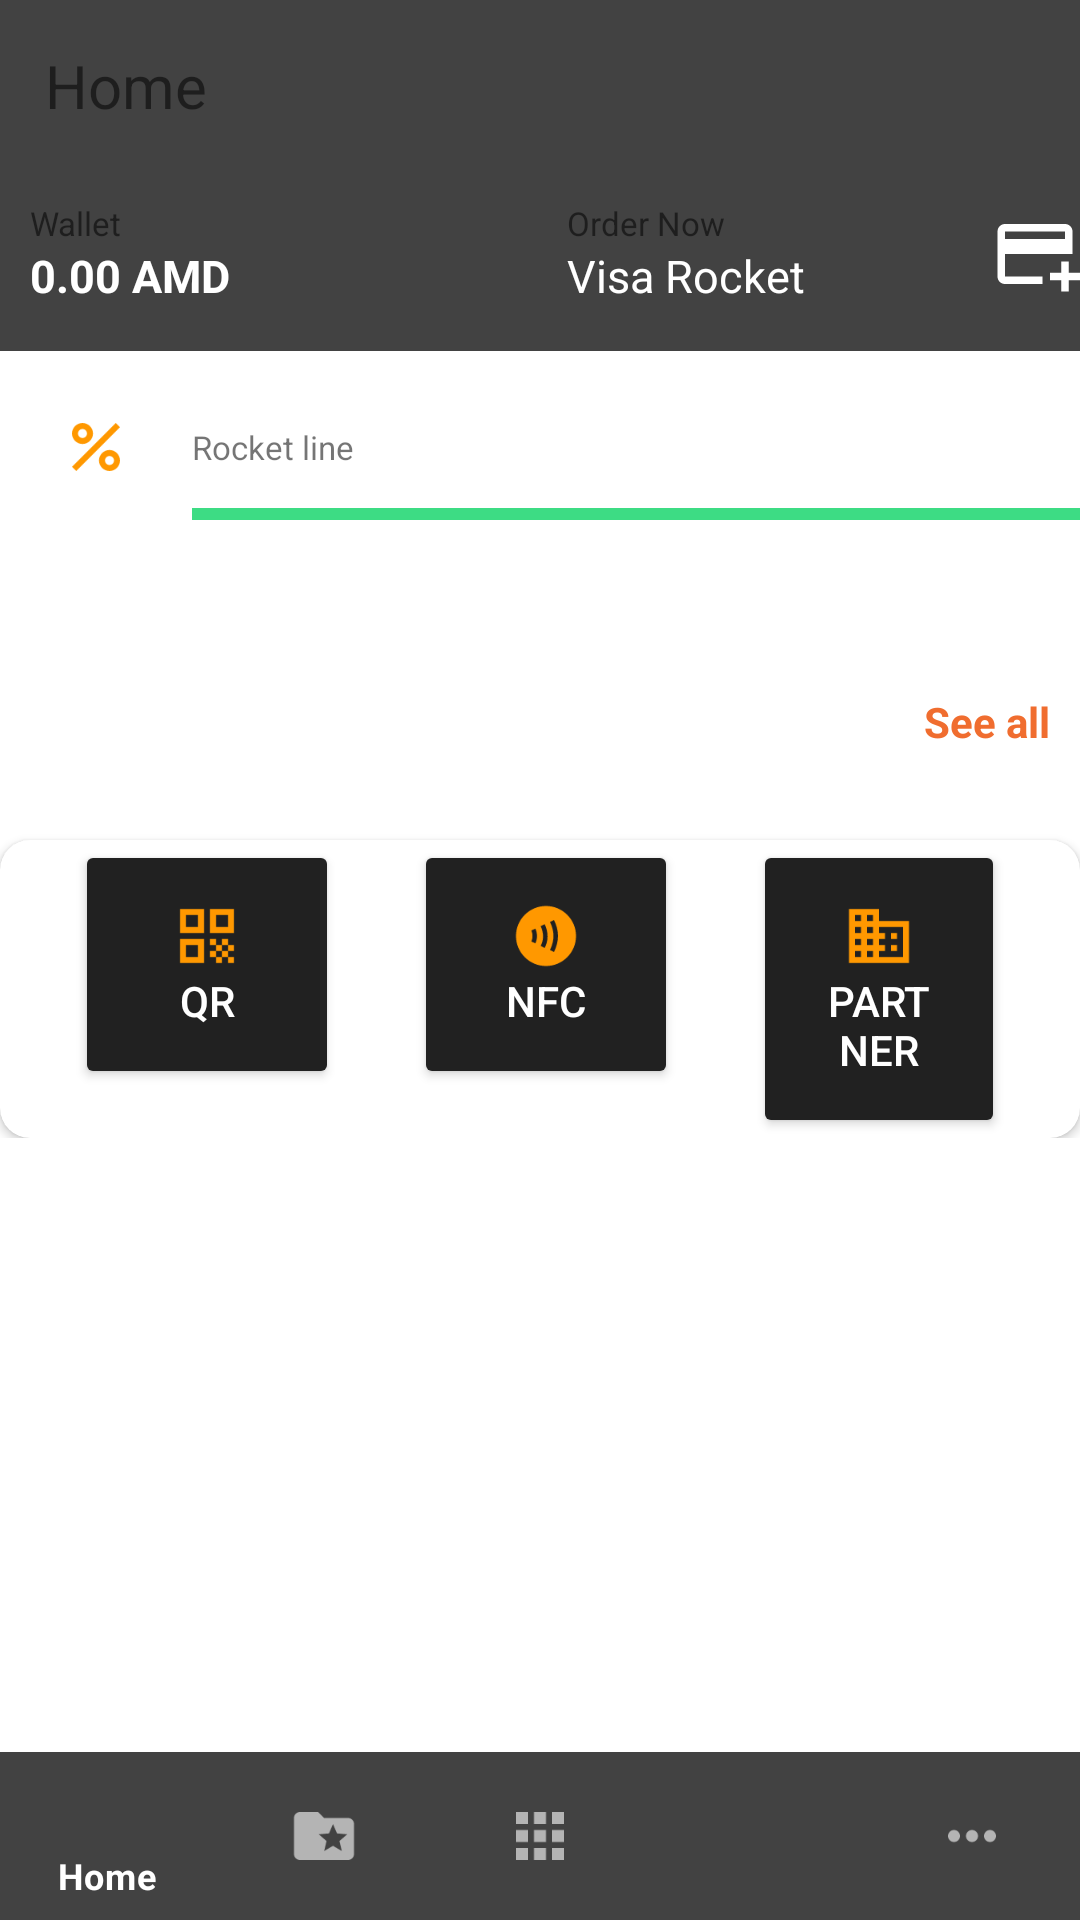

Icons on this 1080w x 1920h Android screen, each with its box as (x1, y1, x2, y2):
add card: (997, 224, 1080, 292)
percent: (72, 423, 120, 471)
